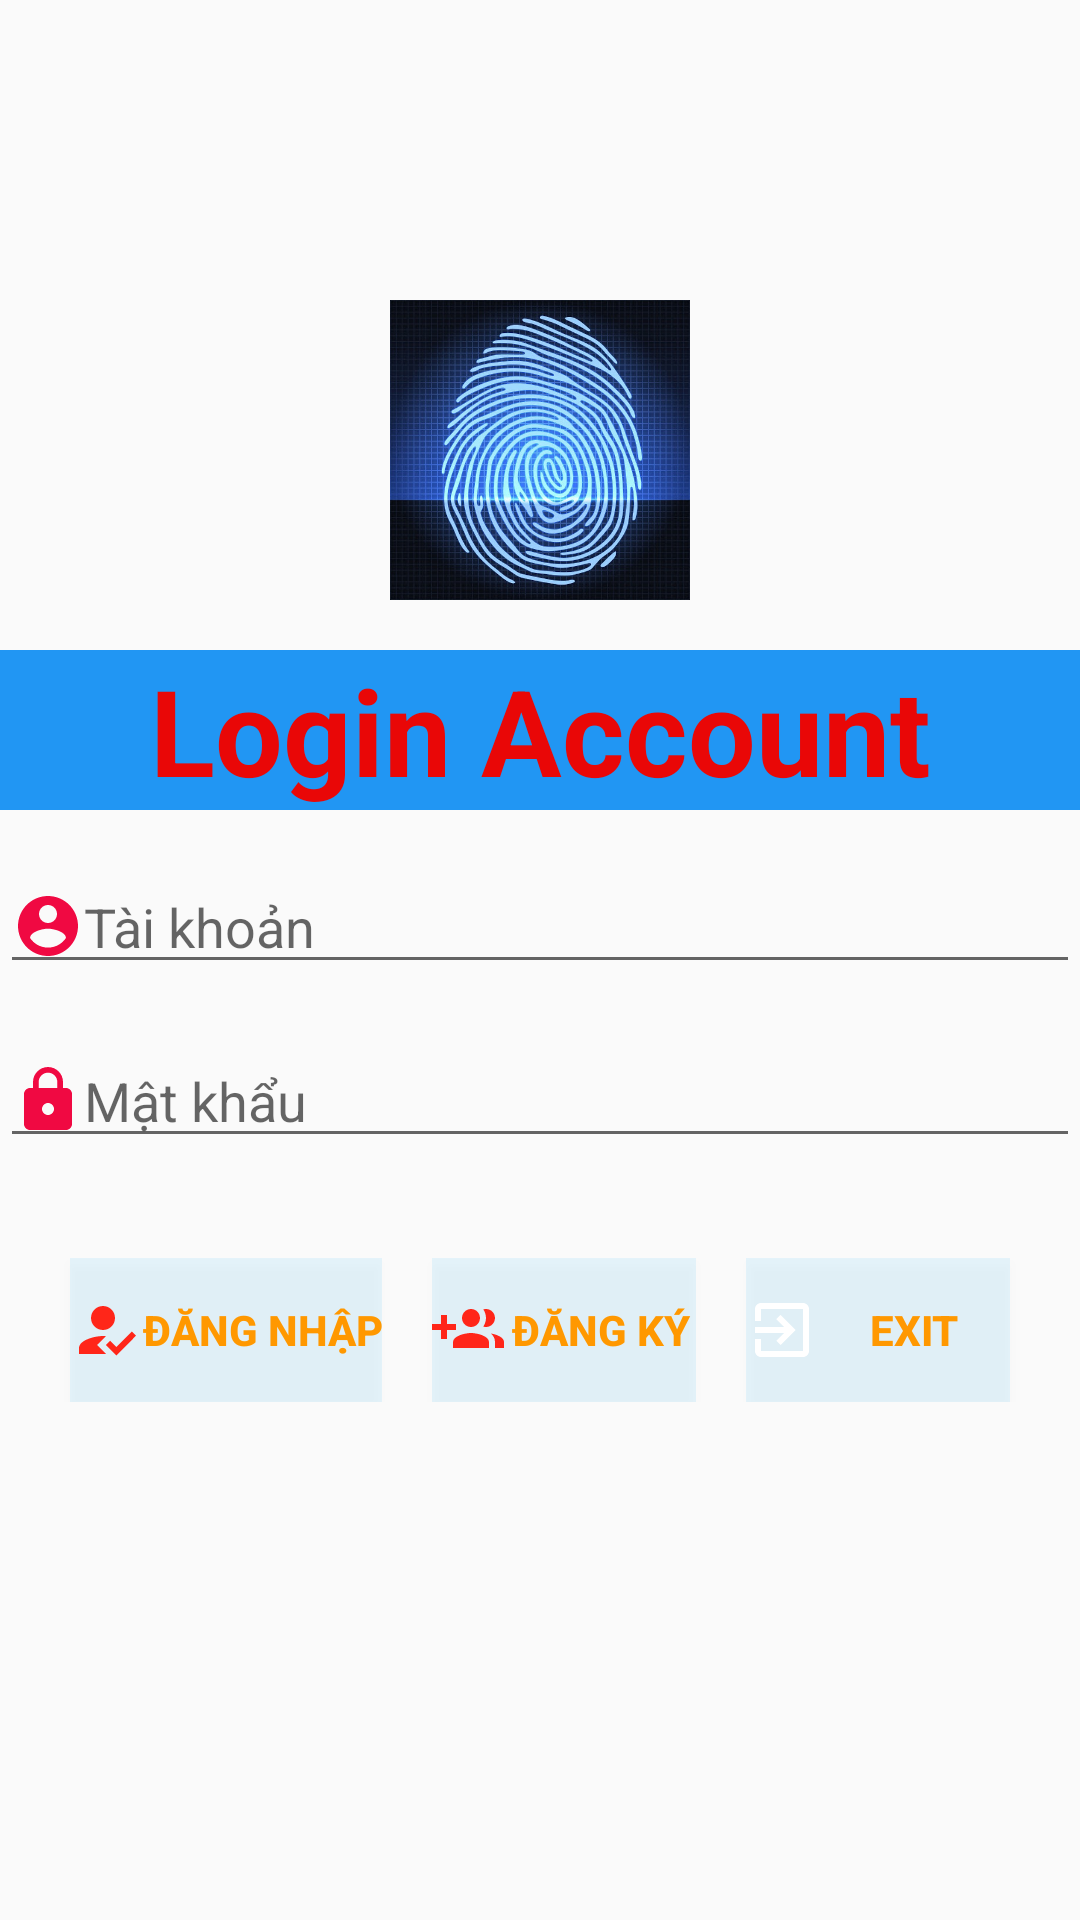

Icon click points for this 1080×1920 phone screenshot, format (x=x, y=y):
vantay: (x=540, y=450)
